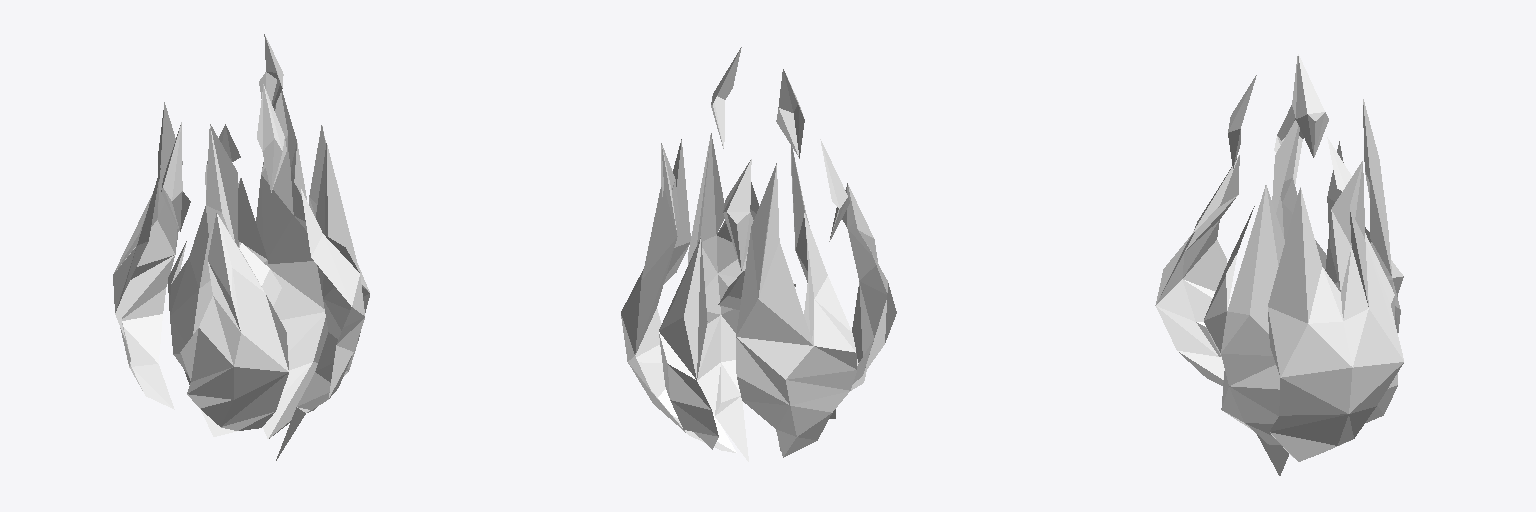
File: soul.obj
The picture shows the model from 3 angles: view 1: azimuth 30°, elevation 25°; view 2: azimuth 150°, elevation 25°; view 3: azimuth 270°, elevation 25°; orthographic projection.
Parts seen in each view (by area): view 1: obj21, Trapezohedron, ingotoSet, tinySet, SphereBase1, obj5, obj15, Crystal, obj12; view 2: obj21, Trapezohedron, Crystal, SphereBase1, obj14, soulSet, obj17, TrapezohedronBase1, obj11, obj19, obj12, obj13; view 3: obj21, obj17, Tiny, obj18, SphereBase, tinySet, obj20, obj9, obj16, SphereBase1, soulSet, Trapezohedron (+5 smaller).
Part boxes in pixels (bbox=[...]): obj21: bbox=[113, 35, 369, 456]; Trapezohedron: bbox=[256, 175, 293, 258]; ingotoSet: bbox=[301, 189, 351, 306]; tinySet: bbox=[268, 216, 313, 263]; SphereBase1: bbox=[327, 145, 359, 271]; obj5: bbox=[163, 122, 182, 200]; obj15: bbox=[323, 234, 359, 305]; Crystal: bbox=[261, 136, 293, 214]; obj12: bbox=[297, 372, 329, 409]; obj21: bbox=[621, 52, 896, 460]; Trapezohedron: bbox=[635, 238, 676, 354]; Crystal: bbox=[642, 188, 677, 278]; SphereBase1: bbox=[700, 135, 724, 241]; obj14: bbox=[715, 396, 748, 461]; soulSet: bbox=[697, 315, 720, 379]; obj17: bbox=[673, 139, 690, 247]; TrapezohedronBase1: bbox=[727, 159, 751, 223]; obj11: bbox=[721, 309, 739, 361]; obj19: bbox=[717, 236, 747, 276]; obj12: bbox=[697, 363, 720, 415]; obj13: bbox=[721, 360, 740, 402]; obj21: bbox=[1155, 54, 1403, 474]; obj17: bbox=[1268, 187, 1321, 322]; Tiny: bbox=[1279, 368, 1352, 415]; obj18: bbox=[1281, 322, 1352, 376]; SphereBase: bbox=[1250, 185, 1284, 333]; tinySet: bbox=[1343, 308, 1403, 367]; obj20: bbox=[1221, 354, 1279, 389]; obj9: bbox=[1221, 312, 1272, 355]; obj16: bbox=[1268, 307, 1307, 377]; SphereBase1: bbox=[1228, 185, 1265, 314]; soulSet: bbox=[1230, 386, 1279, 423]; Trapezohedron: bbox=[1365, 241, 1402, 358].
Size of the model in its own units: 0.8331 by 1.47 by 0.7834.